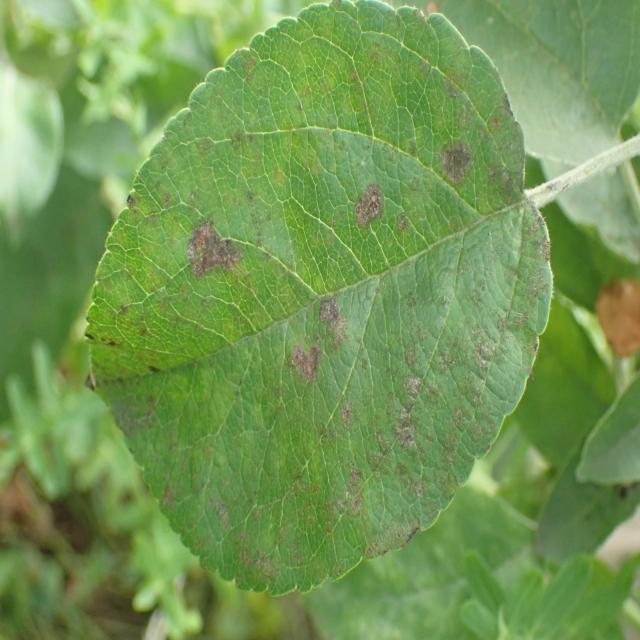scab: (88, 17, 549, 567)
